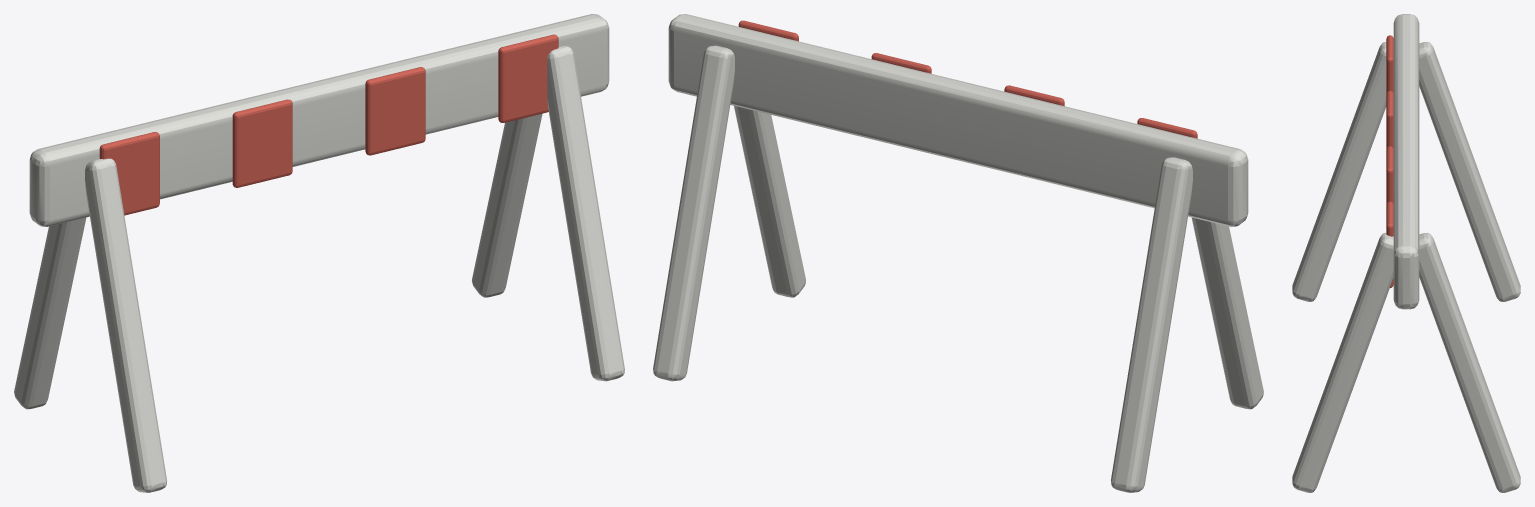
Rendered from sawhorse.glb.
3 views of the same model, side by side, from view 1: azimuth 30°, elevation 25°; view 2: azimuth 150°, elevation 25°; view 3: azimuth 270°, elevation 25° (orthographic). The views are drawn at different scales.
Visible parts, largest first — view 1: Surface_StripeWhite, Surface_Stripe; view 2: Surface_StripeWhite, Surface_Stripe; view 3: Surface_StripeWhite, Surface_Stripe.
Part boxes in pixels (x1,y1,x2,y2): Surface_StripeWhite: [14, 14, 624, 492]; Surface_Stripe: [99, 34, 558, 215]; Surface_StripeWhite: [653, 14, 1263, 492]; Surface_Stripe: [738, 20, 1197, 138]; Surface_StripeWhite: [1292, 14, 1520, 492]; Surface_Stripe: [1386, 35, 1393, 287].
Size of the model in its own units: 1.55 by 0.8025 by 0.6267.
